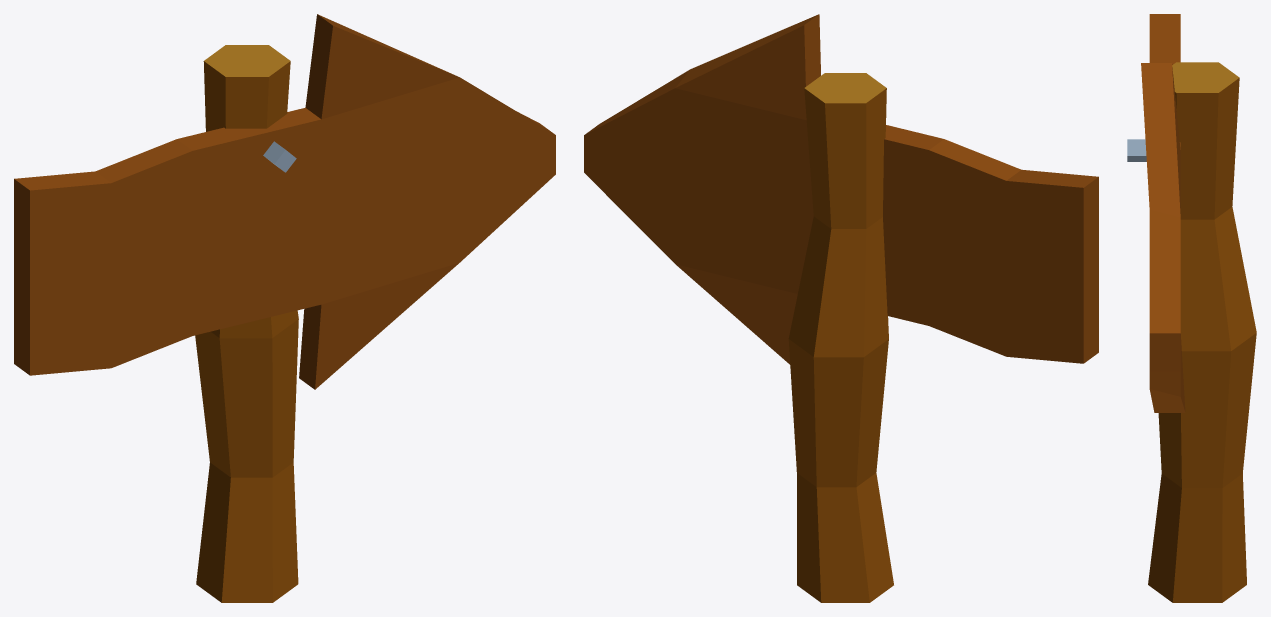
Rendered from sign_3.glb.
3 views of the same model, side by side, from view 1: azimuth 30°, elevation 25°; view 2: azimuth 150°, elevation 25°; view 3: azimuth 270°, elevation 25° (orthographic). The views are drawn at different scales.
Parts seen in each view (by area): view 1: sign_3; view 2: sign_3; view 3: sign_3.
Part boxes in pixels (left/top/right/bottom): sign_3: left=14, top=14, right=555, bottom=602; sign_3: left=584, top=14, right=1098, bottom=602; sign_3: left=1127, top=14, right=1256, bottom=602.
Size of the model in its own units: 3.23 by 3.32 by 0.7115.
1 material, 1 textured.
